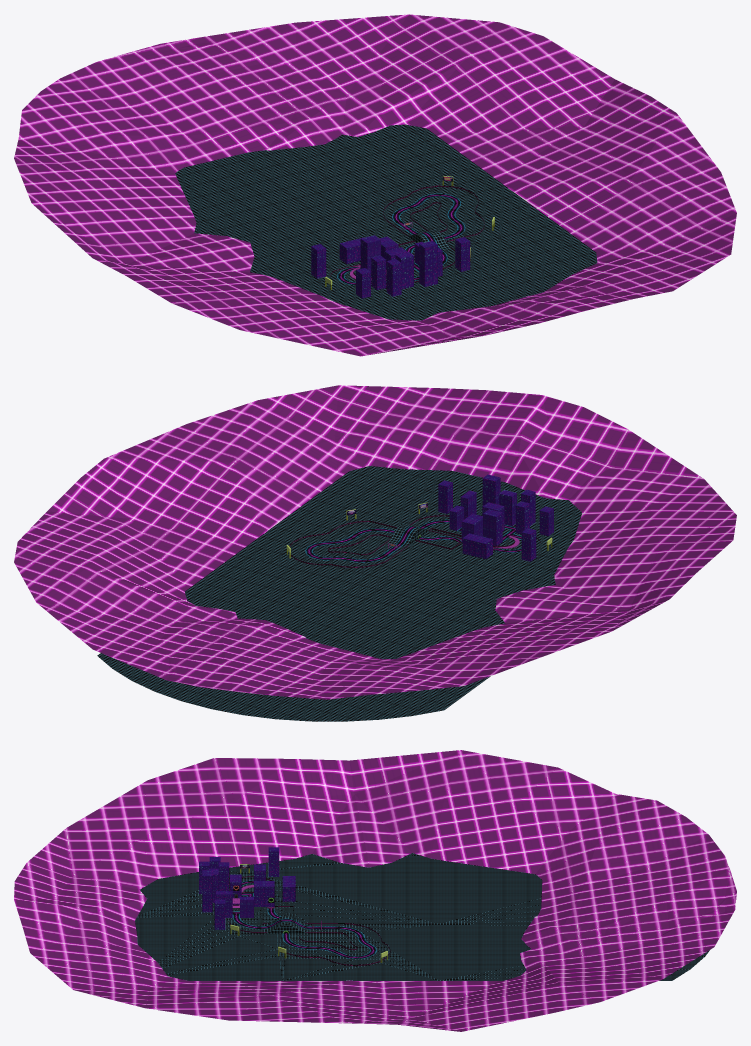
The picture shows the model from 3 angles, top to bottom: view 1: azimuth 30°, elevation 25°; view 2: azimuth 150°, elevation 25°; view 3: azimuth 270°, elevation 25°; orthographic projection. The views are drawn at different scales.
Visible parts, largest first — view 1: 80s-SKP--lila_grid, 80s-SKP--offroad, 80s-SKP--haus, 80s-SKP--strasse, 80s-SKP--zaun; view 2: 80s-SKP--lila_grid, 80s-SKP--offroad, 80s-SKP--haus, 80s-SKP--strasse, 80s-SKP--zaun; view 3: 80s-SKP--lila_grid, 80s-SKP--offroad, 80s-SKP--haus, 80s-SKP--strasse, 80s-SKP--zaun.
Part boxes in pixels (x1,y1,x2,y2): 80s-SKP--lila_grid: [14, 14, 736, 356]; 80s-SKP--offroad: [175, 124, 597, 320]; 80s-SKP--haus: [311, 235, 470, 298]; 80s-SKP--strasse: [337, 193, 465, 286]; 80s-SKP--zaun: [330, 185, 484, 287]; 80s-SKP--lila_grid: [14, 385, 736, 699]; 80s-SKP--offroad: [97, 466, 581, 721]; 80s-SKP--haus: [438, 474, 553, 561]; 80s-SKP--strasse: [305, 519, 521, 562]; 80s-SKP--zaun: [289, 515, 540, 567]; 80s-SKP--lila_grid: [14, 750, 736, 1031]; 80s-SKP--offroad: [135, 853, 709, 980]; 80s-SKP--haus: [199, 847, 295, 929]; 80s-SKP--strasse: [232, 880, 376, 958]; 80s-SKP--zaun: [228, 876, 390, 966].
Size of the model in its own units: 302551 by 38193 by 348181.
Materials: 15 (15 with a texture image).
